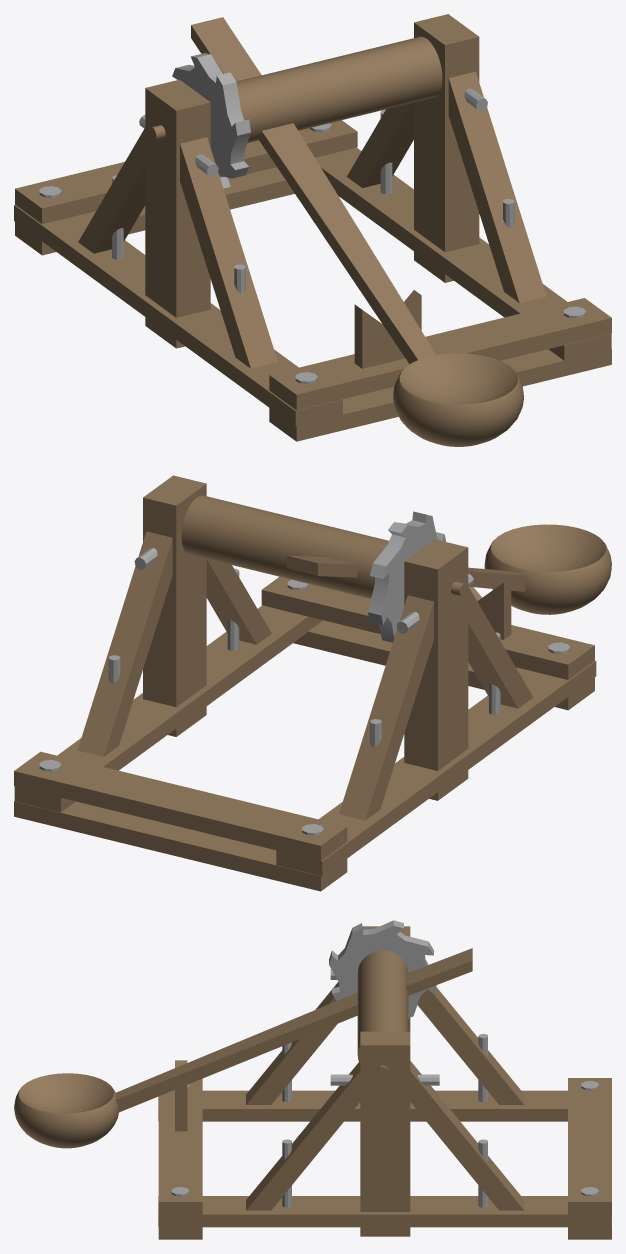
Rendered from catapulta_Fixed.fbx.
The picture shows the model from 3 angles, top to bottom: view 1: azimuth 30°, elevation 25°; view 2: azimuth 150°, elevation 25°; view 3: azimuth 270°, elevation 25°; orthographic projection. The views are drawn at different scales.
Parts seen in each view (by area): view 1: Cube.008, Cylinder, Cube.005, Cube.001, Cube.006, Cube, Cube.002, Cube.003, Sphere, Cube.004, Circle, Cube.007 (+2 smaller); view 2: Cube.008, Cube.001, Cube.005, Cylinder, Cube.006, Cube.003, Cube.002, Cube.004, Sphere, Circle, Cube, Cylinder.005 (+2 smaller); view 3: Cube.008, Cube.004, Cube.003, Cube.006, Cube, Cube.002, Sphere, Cube.005, Cylinder, Circle, Cylinder.005, Cube.007 (+1 smaller).
Boxes of the visible parts, x1,y1,x2,y2 form: Cube.008: (15,120,611,441); Cylinder: (149,36,442,142); Cube.005: (78,127,277,368); Cube.001: (145,79,210,348); Cube.006: (347,71,546,303); Cube: (191,17,435,364); Cube.002: (14,205,342,426); Cube.003: (414,14,479,282); Sphere: (393,353,523,446); Cube.004: (315,147,611,361); Circle: (172,53,250,188); Cube.007: (354,290,421,368); Cube.008: (14,576,594,891); Cube.001: (404,539,468,800); Cube.005: (339,586,533,820); Cylinder: (181,495,466,598); Cube.006: (77,531,271,756); Cube.003: (143,475,206,736); Cube.002: (276,661,596,876); Cube.004: (14,605,322,812); Sphere: (484,524,611,614); Circle: (368,511,445,642); Cube: (287,555,526,591); Cylinder.005: (108,568,500,747); Cube.008: (158,1078,611,1239); Cube.004: (158,1196,611,1227); Cube.003: (360,1031,410,1236); Cube.006: (246,1061,524,1210); Cube: (115,948,472,1112); Cube.002: (158,1090,567,1121); Sphere: (14,1073,118,1148); Cube.005: (246,982,524,1104); Cylinder: (357,950,408,1076); Circle: (329,920,436,1018); Cylinder.005: (282,1034,487,1207); Cube.007: (175,1060,187,1131).
Bounding box in the file's own units: 1086 × 539 × 429.
